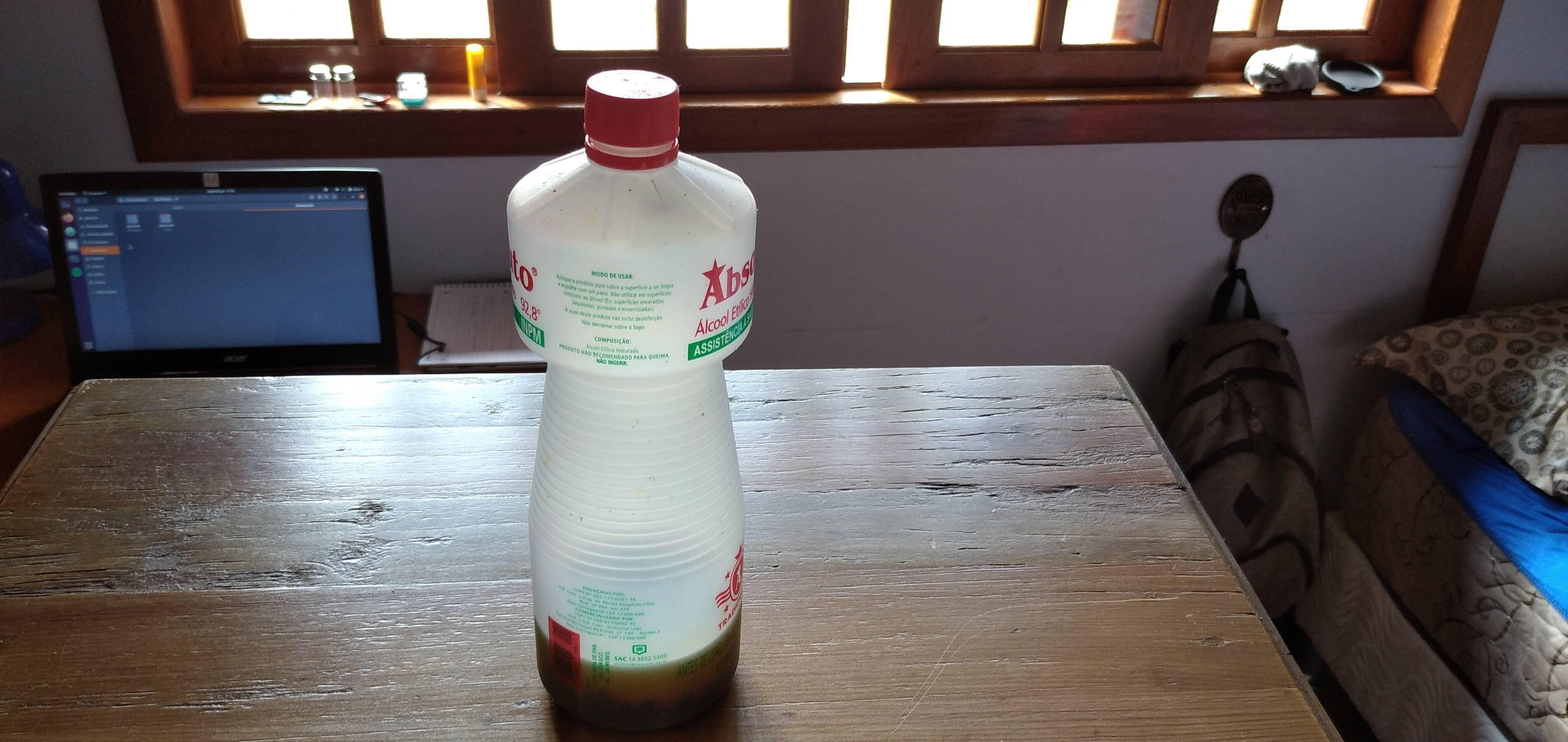bottle-plastic: (502, 54, 774, 738)
